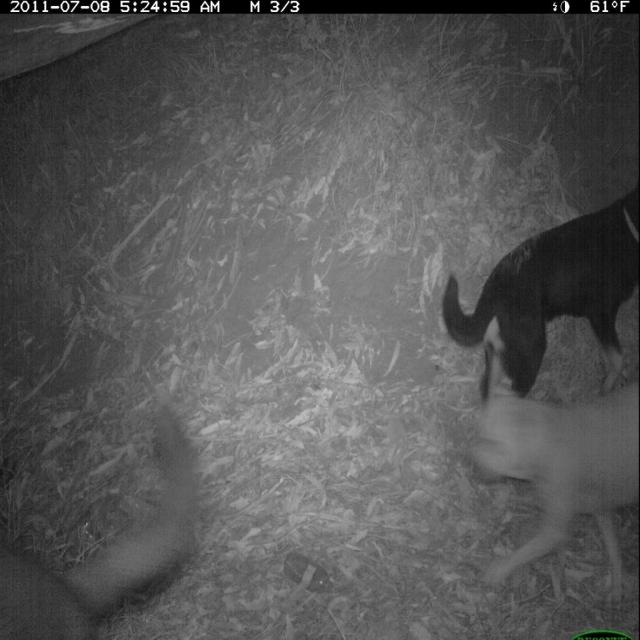dog: (436, 172, 638, 419), (2, 397, 207, 640), (463, 345, 640, 619)
